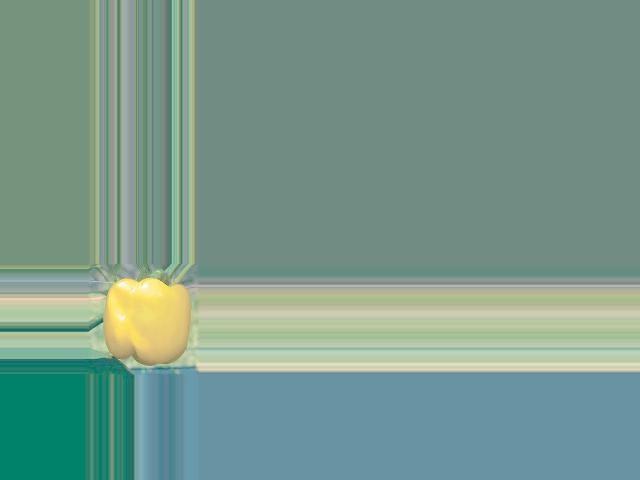bell_pepper: (96, 269, 196, 366)
